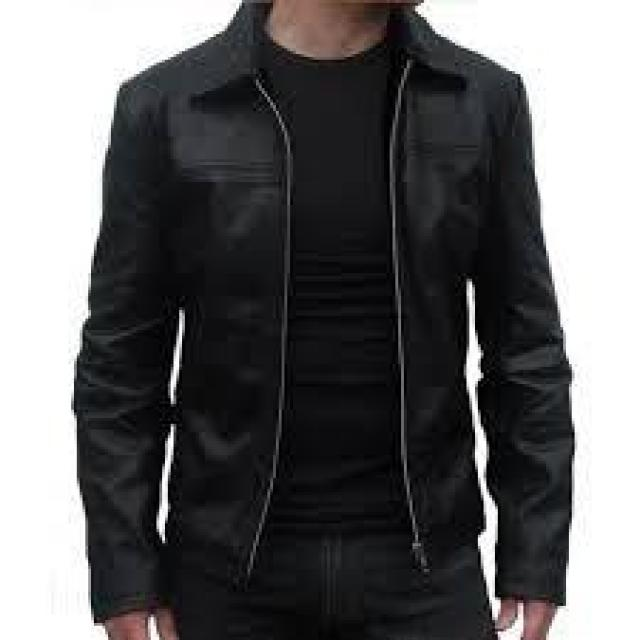jacket: (54, 7, 586, 624)
